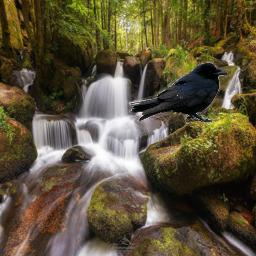Crow: (129, 62, 228, 123)
